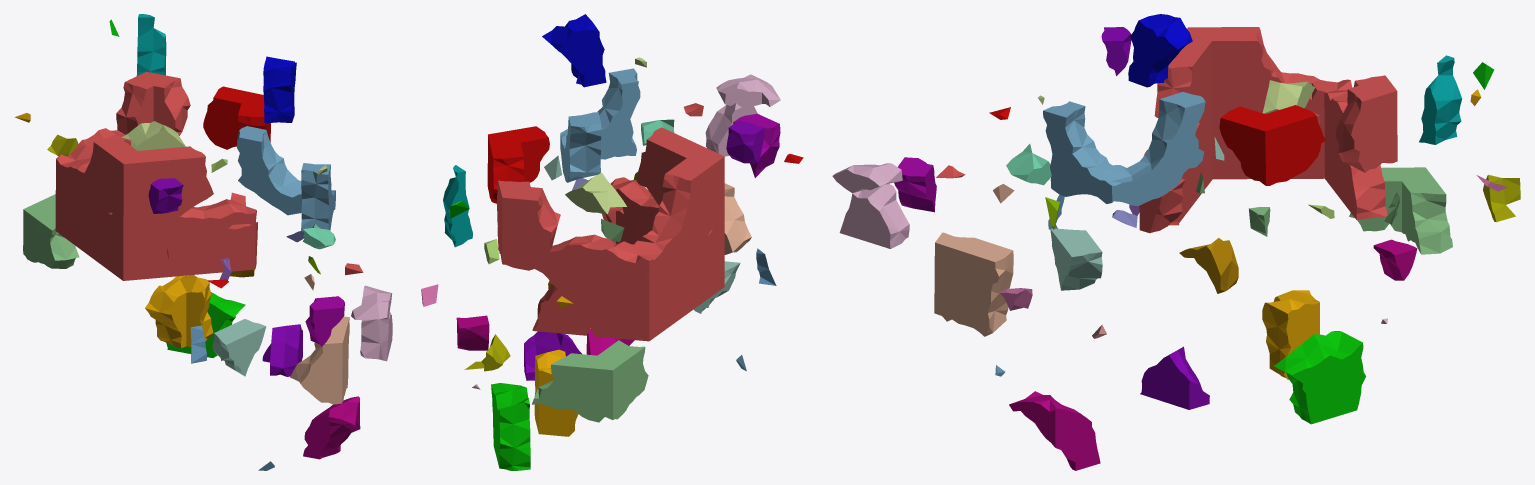
Rendered from fractured_77_39pcs_transformed.glb.
The picture shows the model from 3 angles, left to right: view 1: azimuth 30°, elevation 25°; view 2: azimuth 150°, elevation 25°; view 3: azimuth 270°, elevation 25°; orthographic projection. The views are drawn at different scales.
Parts seen in each view (by area): view 1: piece_1.obj, piece_2.obj, piece_0.obj, piece_7.obj, piece_9.obj, piece_3.obj, piece_15.obj, piece_6.obj, piece_10.obj, piece_4.obj, piece_16.obj, piece_13.obj (+7 smaller); view 2: piece_1.obj, piece_3.obj, piece_2.obj, piece_8.obj, piece_9.obj, piece_6.obj, piece_10.obj, piece_0.obj, piece_13.obj, piece_5.obj, piece_18.obj, piece_16.obj (+8 smaller); view 3: piece_1.obj, piece_2.obj, piece_7.obj, piece_9.obj, piece_8.obj, piece_3.obj, piece_6.obj, piece_15.obj, piece_10.obj, piece_0.obj, piece_16.obj, piece_4.obj (+8 smaller).
Boxes of the visible parts, <box> form: piece_1.obj: <box>55,71,257,280</box>; piece_2.obj: <box>237,126,335,235</box>; piece_0.obj: <box>145,275,213,348</box>; piece_7.obj: <box>290,316,349,404</box>; piece_9.obj: <box>203,86,270,149</box>; piece_3.obj: <box>23,194,79,268</box>; piece_15.obj: <box>303,396,360,459</box>; piece_6.obj: <box>351,285,392,361</box>; piece_10.obj: <box>263,56,296,123</box>; piece_4.obj: <box>212,319,266,376</box>; piece_16.obj: <box>262,324,302,376</box>; piece_13.obj: <box>136,14,166,75</box>; piece_1.obj: <box>496,127,724,341</box>; piece_3.obj: <box>532,340,648,422</box>; piece_2.obj: <box>560,68,640,182</box>; piece_8.obj: <box>491,383,530,470</box>; piece_9.obj: <box>487,126,549,203</box>; piece_6.obj: <box>705,74,780,156</box>; piece_10.obj: <box>542,14,606,87</box>; piece_0.obj: <box>534,349,578,436</box>; piece_13.obj: <box>443,165,472,247</box>; piece_5.obj: <box>565,173,626,214</box>; piece_18.obj: <box>726,120,764,163</box>; piece_16.obj: <box>524,331,581,380</box>; piece_1.obj: <box>1139,27,1397,233</box>; piece_2.obj: <box>1043,92,1205,205</box>; piece_7.obj: <box>934,232,1013,336</box>; piece_9.obj: <box>1219,105,1325,185</box>; piece_8.obj: <box>1274,331,1365,424</box>; piece_3.obj: <box>1349,167,1452,254</box>; piece_6.obj: <box>832,163,909,248</box>; piece_15.obj: <box>1009,391,1100,470</box>; piece_10.obj: <box>1128,14,1192,87</box>; piece_0.obj: <box>1262,290,1319,379</box>; piece_16.obj: <box>1140,346,1209,409</box>; piece_4.obj: <box>1050,228,1102,290</box>.
Size of the model in its own units: 0.9558 by 1.87 by 2.66.
